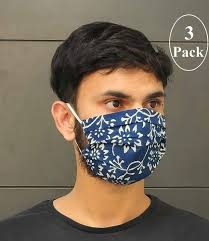with-mask: (52, 23, 174, 189)
